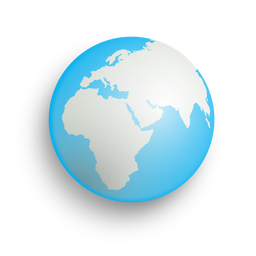planet: (47, 36, 229, 205)
